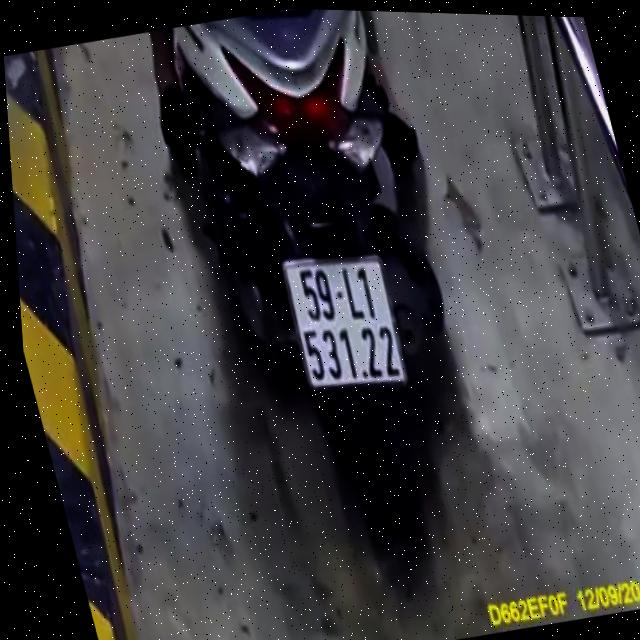motorcycle: (156, 5, 520, 541)
plate: (268, 238, 418, 403)
